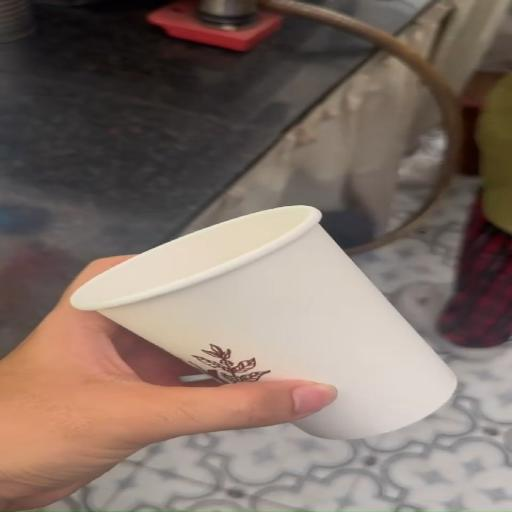Ly_giay: (70, 206, 455, 439)
